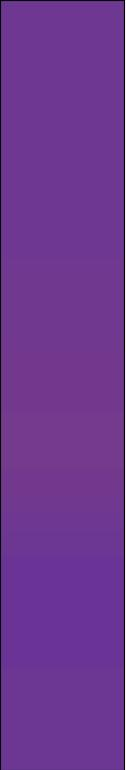safe: (10, 15, 120, 769)
